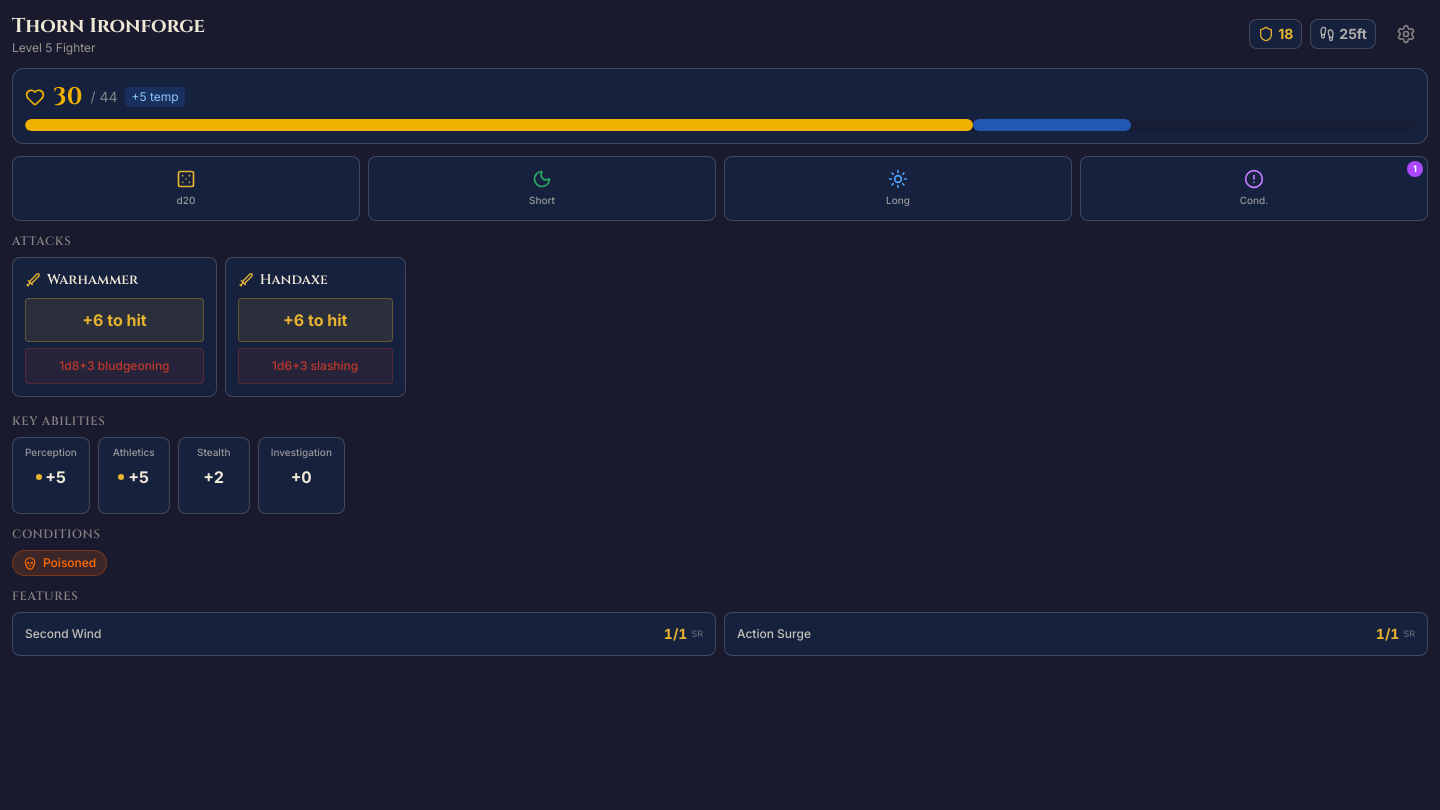
SessionView › opens customize modal when settings button is tapped
Click the button with test id "session-customize-button" at (1406, 34), box x1=1384 y1=12 x2=1428 y2=56
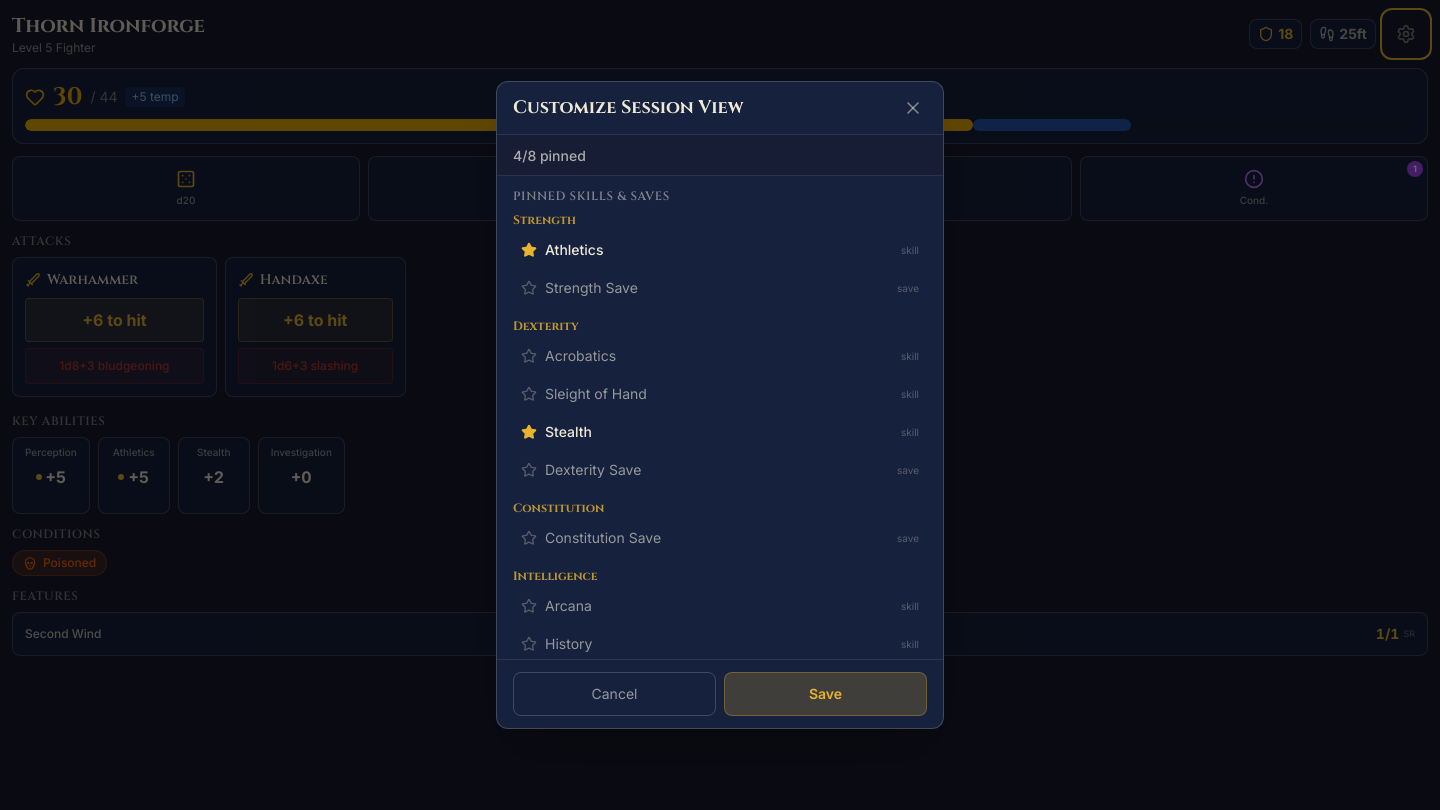
Result: the dialog with test id "session-customize-modal" is shown
